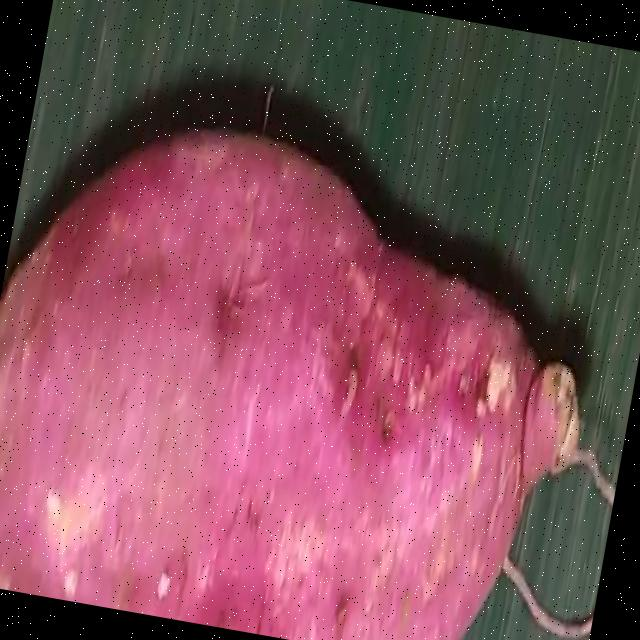Sweet Potato: (0, 123, 577, 640)
